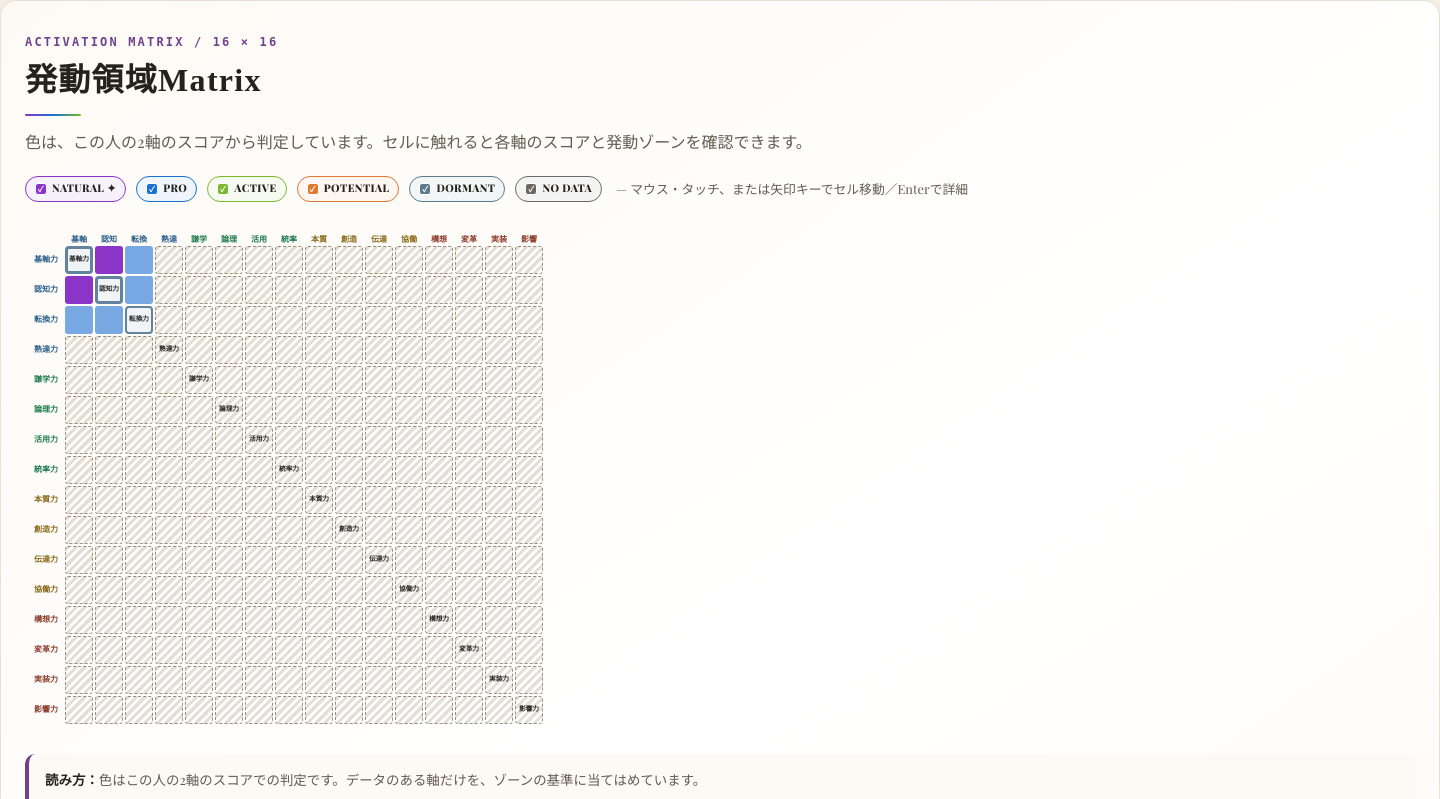
CompatMatrix › uses one roving tab stop, shows details on focus, skips filtered cells, and pins details with Enter
Click the button "✓ NATURAL ✦".
click(76, 189)  # box [25,176,126,202]
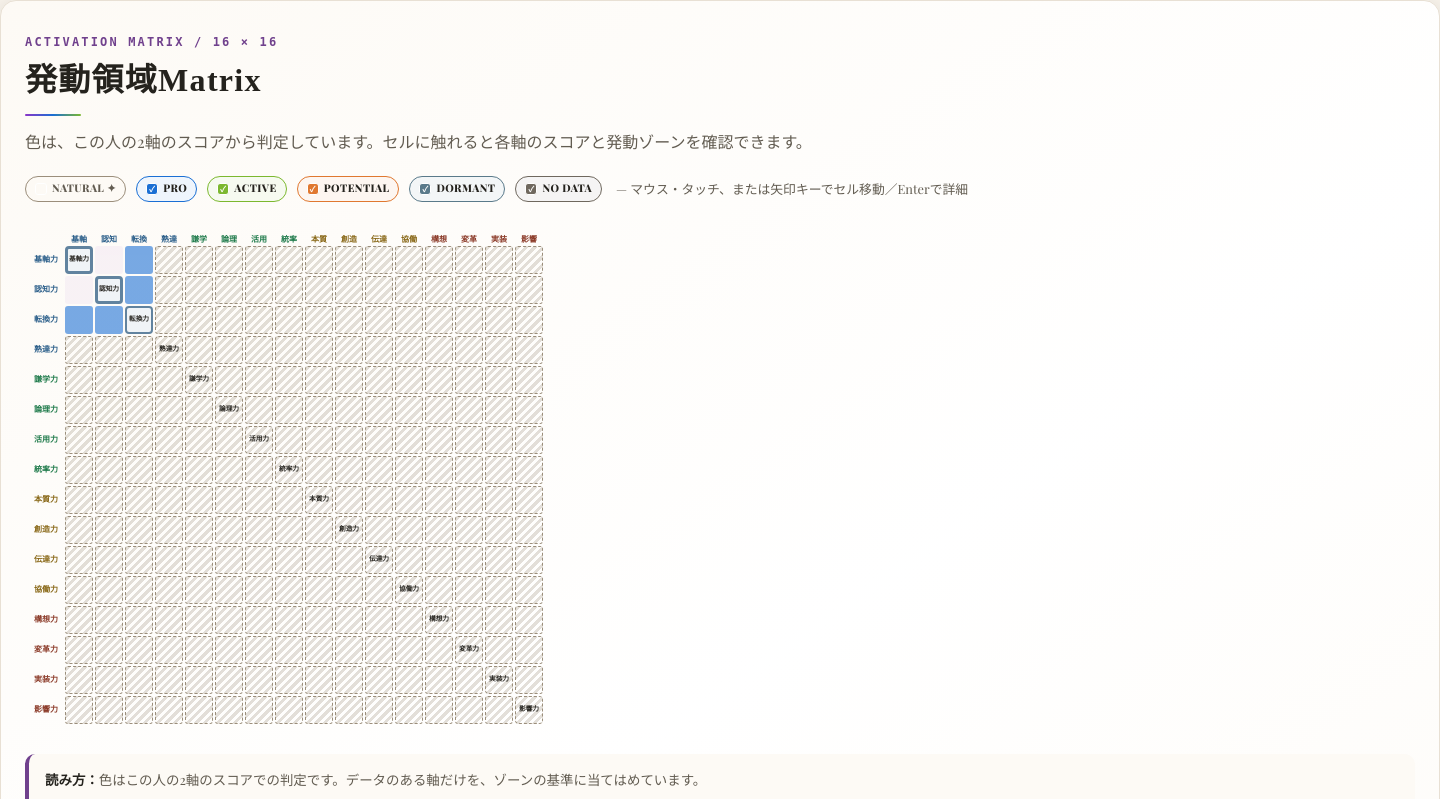
Expected: the picture with class "compat-matrix-cell" has attribute aria-hidden="true", [95,246,123,274]
Focus the picture with class "compat-matrix-cell" showing "基軸力" at (79, 260), box [65,246,93,274]
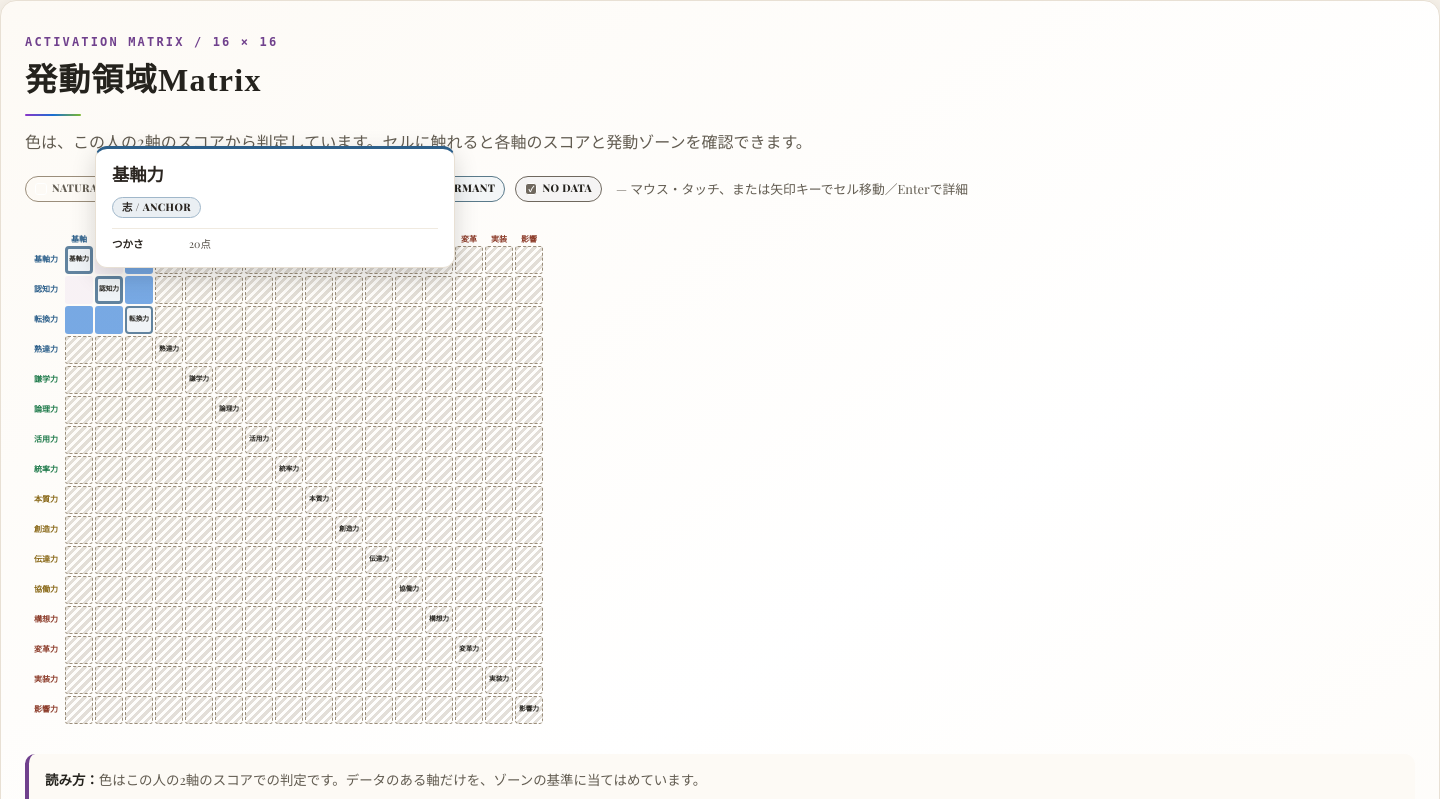
Expected: the tooltip shows "基軸力", [112,166,164,185]
Press ArrowRight in the picture with class "compat-matrix-cell" showing "基軸力", box [65,246,93,274]
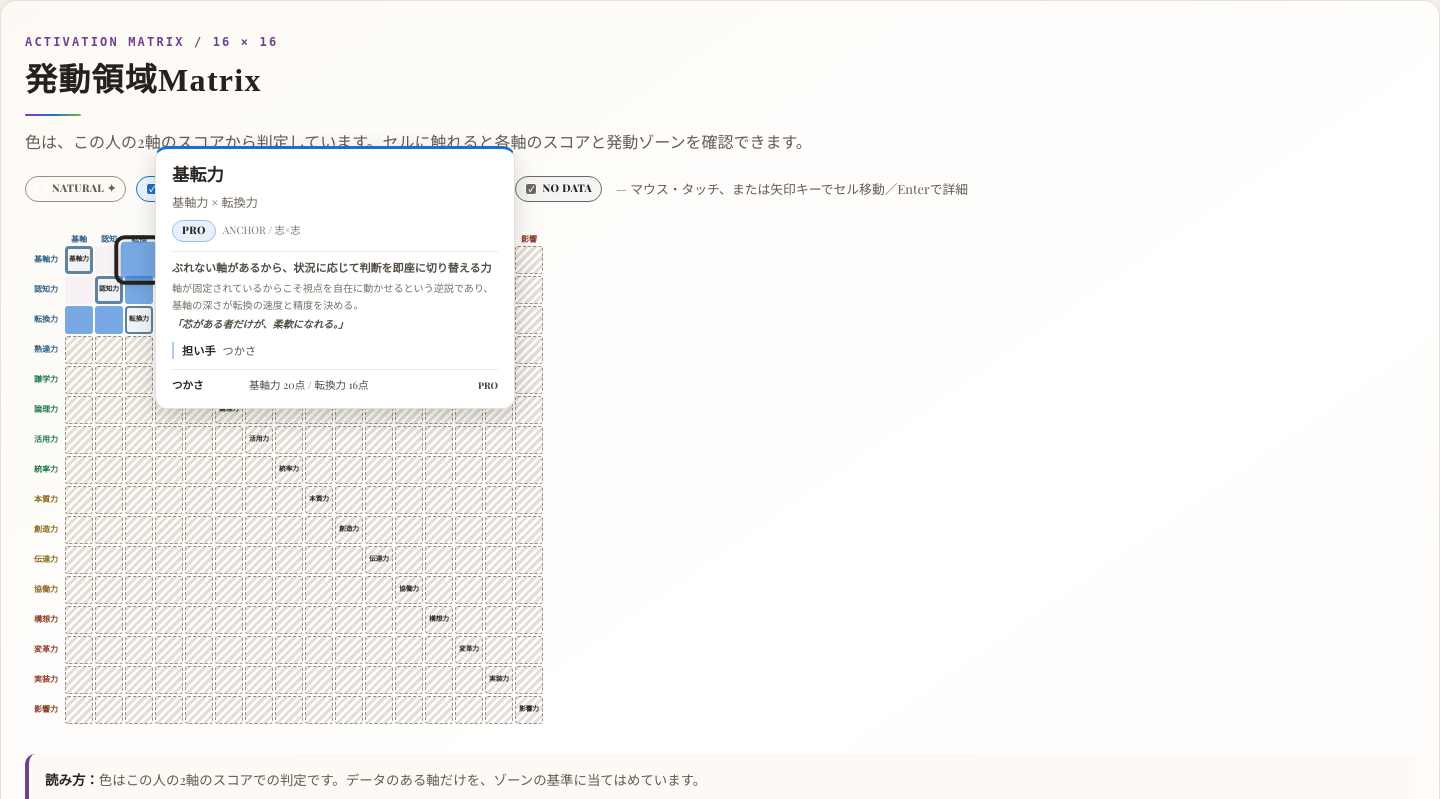
Expected: the tooltip shows "基転力", [172,166,224,185]
Press Enter in the 3rd picture with class "compat-matrix-cell", box [121,242,157,278]
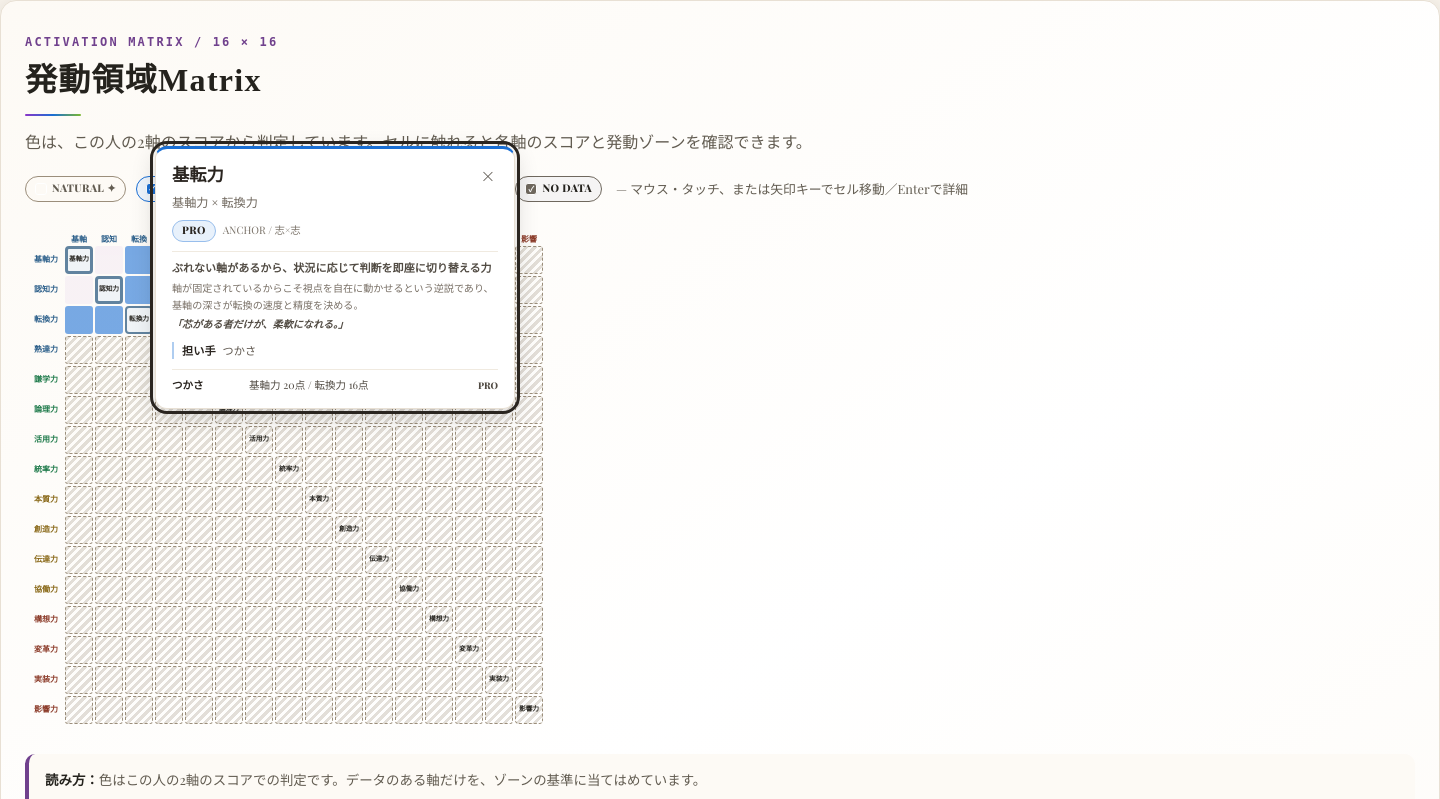
Expected: the tooltip shows "基転力", [172,166,224,185]
Press Escape in the tooltip, box [155,146,515,409]
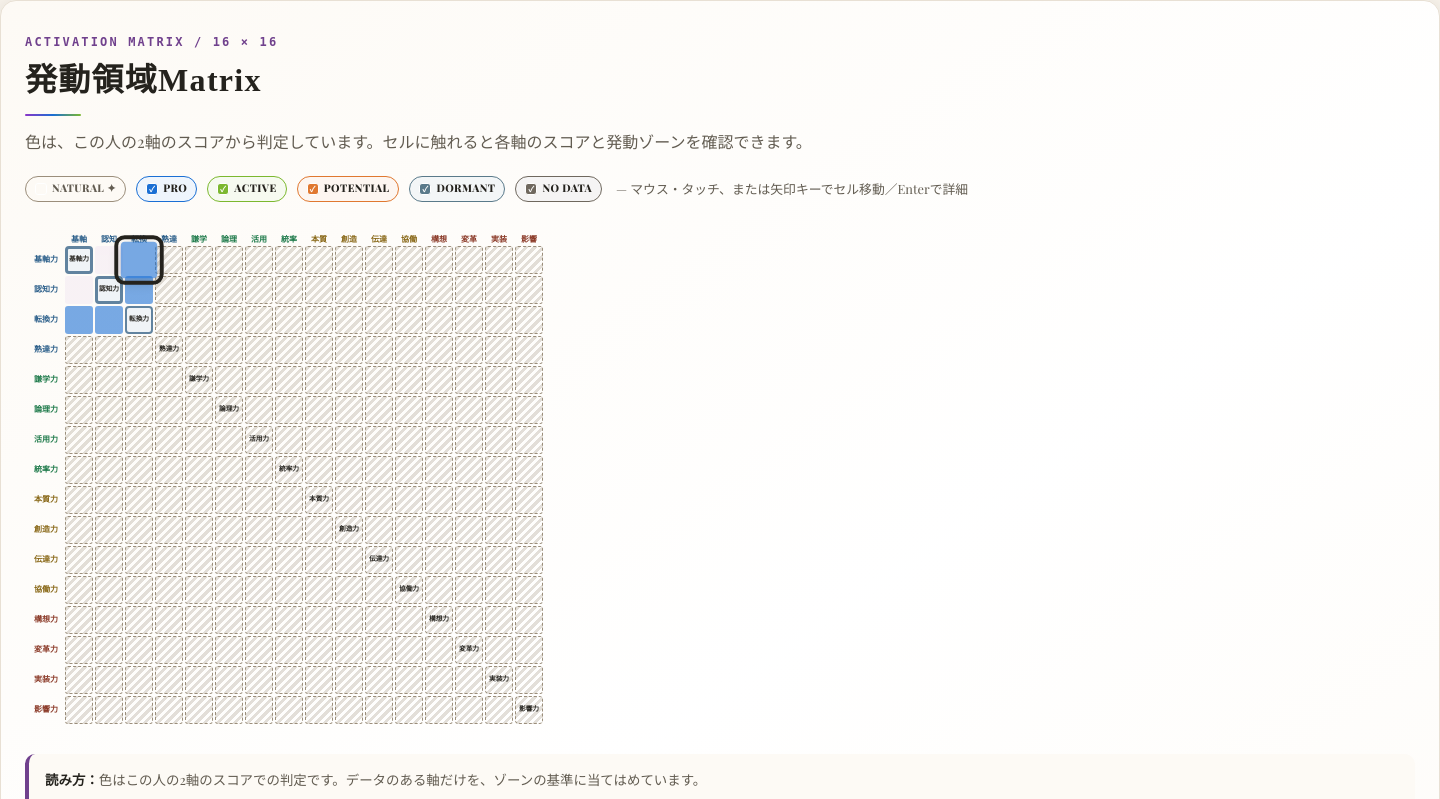
Expected: the tooltip is gone
